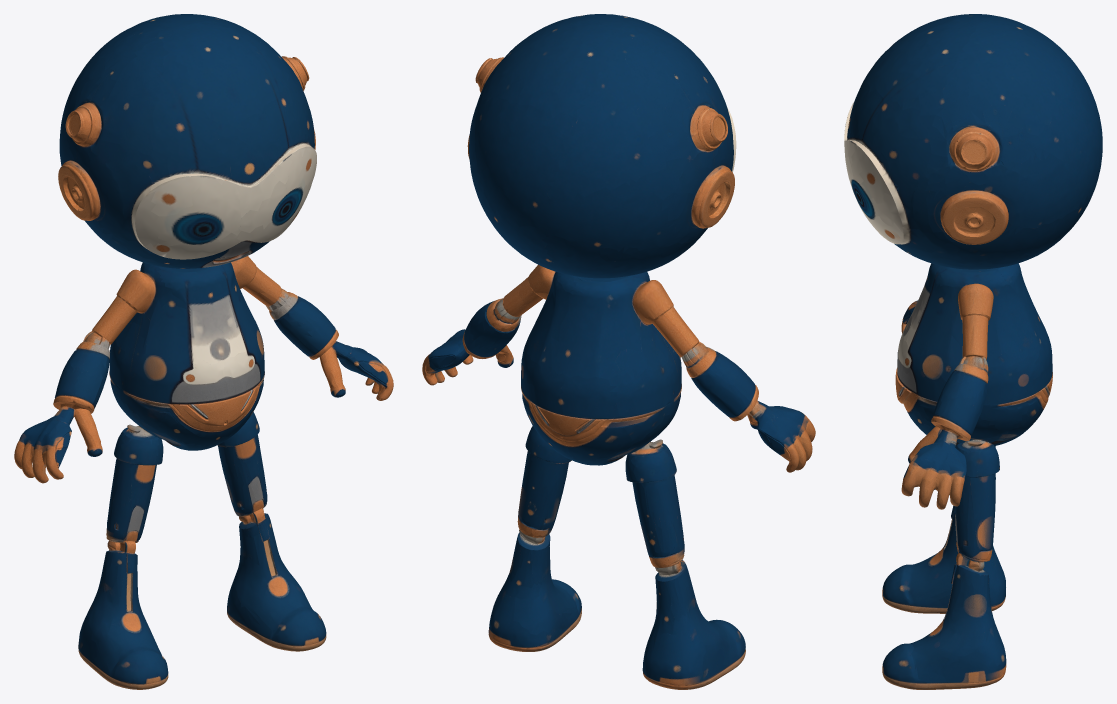
The model's file is source-model.glb.
3 renders of one model, left to right at view 1: azimuth 30°, elevation 25°; view 2: azimuth 150°, elevation 25°; view 3: azimuth 270°, elevation 25°, orthographic. The views are drawn at different scales.
Bounding box in the file's own units: 1.17 × 1.9 × 0.7234.
1 material, 1 textured.
